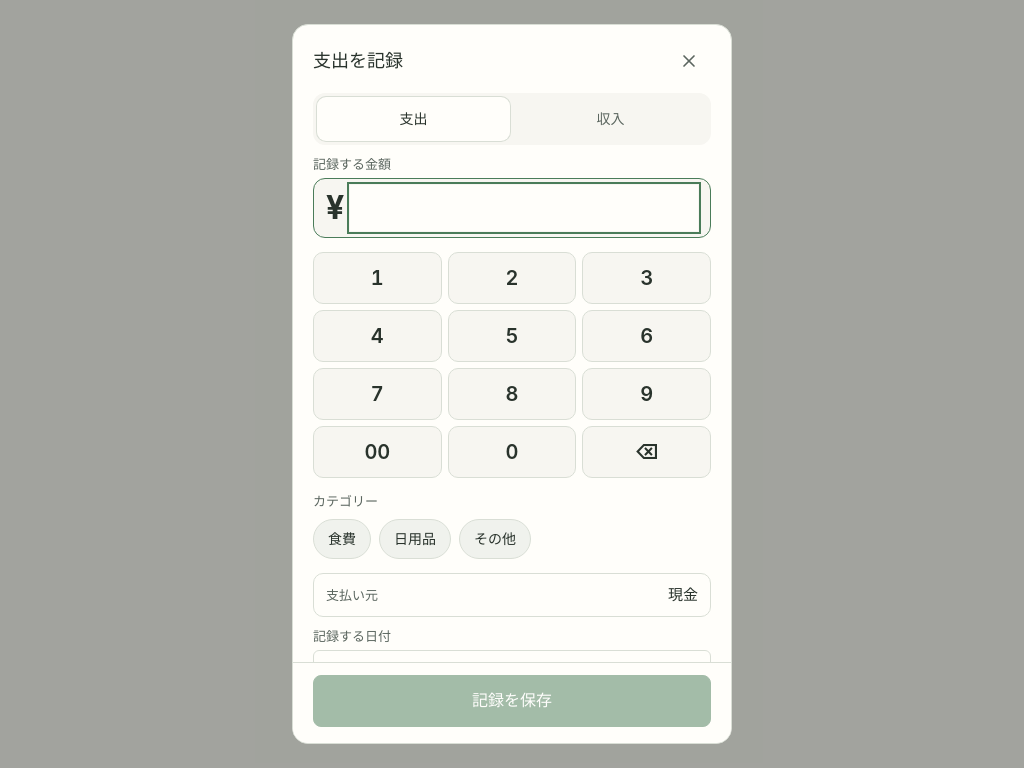
Test: QuickAddSheet › keeps Save disabled for an empty amount, 0, and when no category is chosen
Step 1. Click the button "食費" → click(342, 539), box x1=313 y1=519 x2=371 y2=559
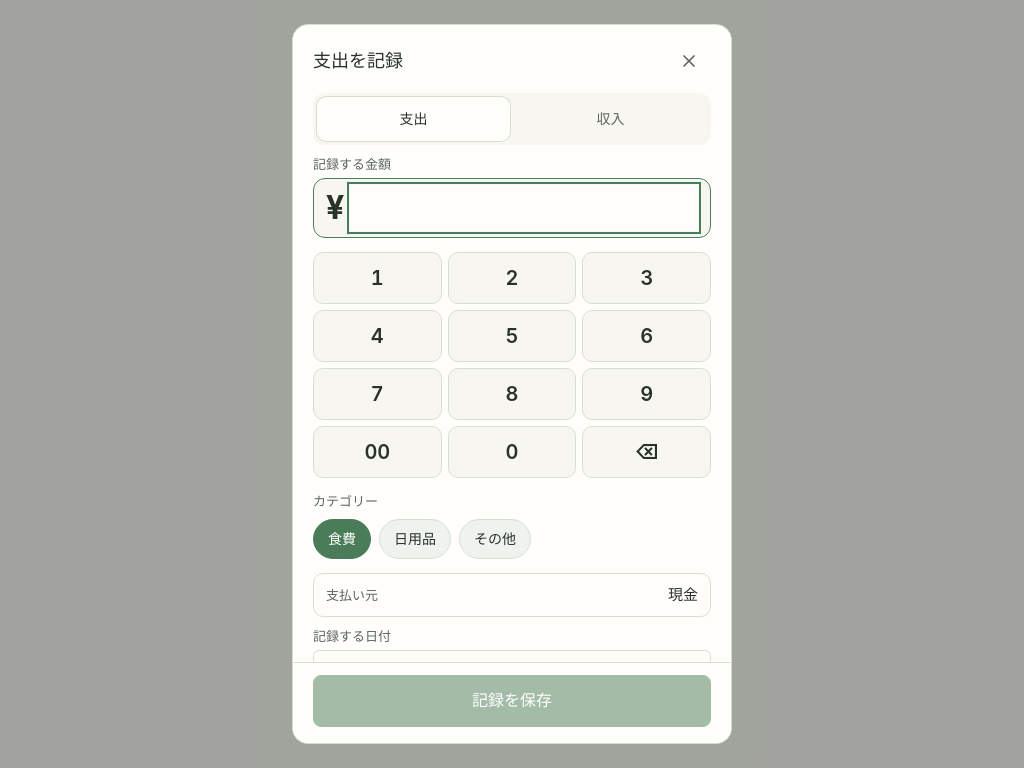
Expected: the button "記録を保存" is disabled, x1=313 y1=675 x2=711 y2=727
Step 2. Click the button "0" → click(512, 452), box x1=448 y1=426 x2=576 y2=478
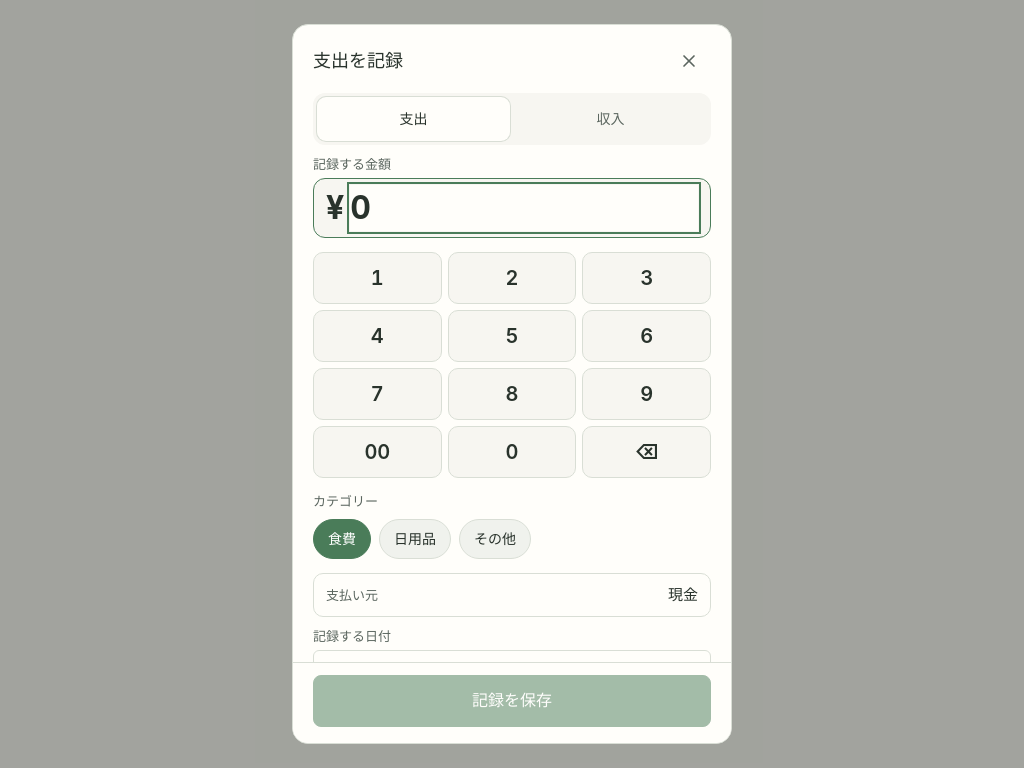
Expected: the button "記録を保存" is disabled, x1=313 y1=675 x2=711 y2=727
Step 3. Replace the text in the field labelled "記録する金額" with "500" → (524, 208), box x1=350 y1=185 x2=698 y2=231
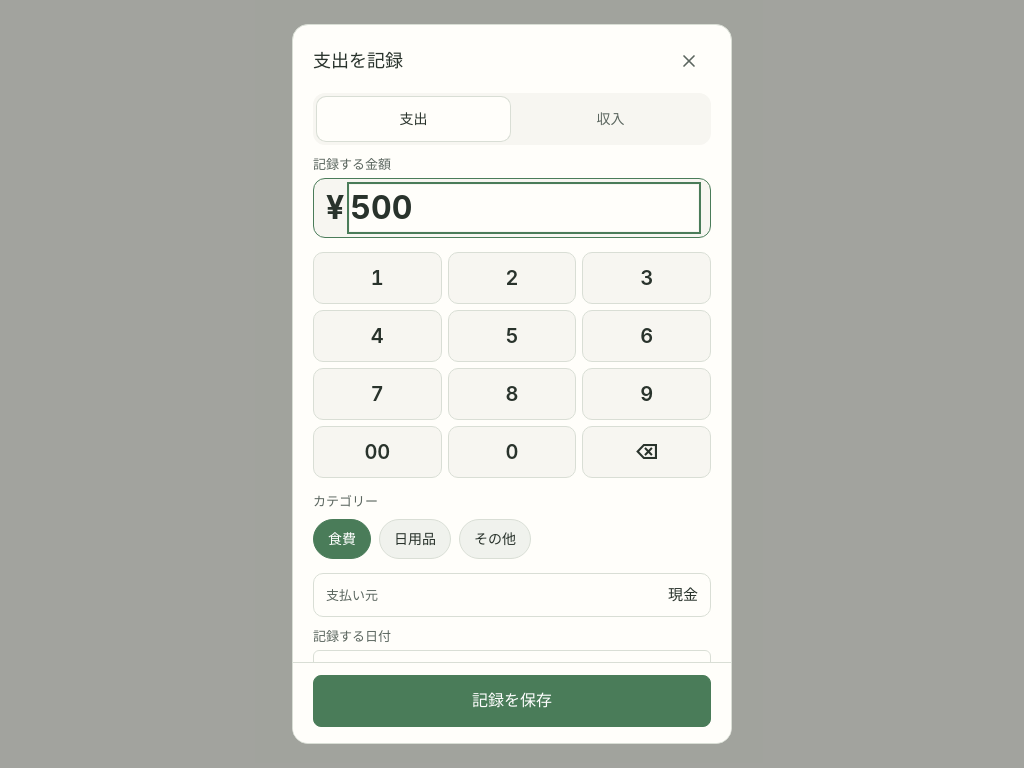
Expected: the button "記録を保存" is enabled, x1=313 y1=675 x2=711 y2=727
Step 4. Click the button "食費" → click(342, 539), box x1=313 y1=519 x2=371 y2=559
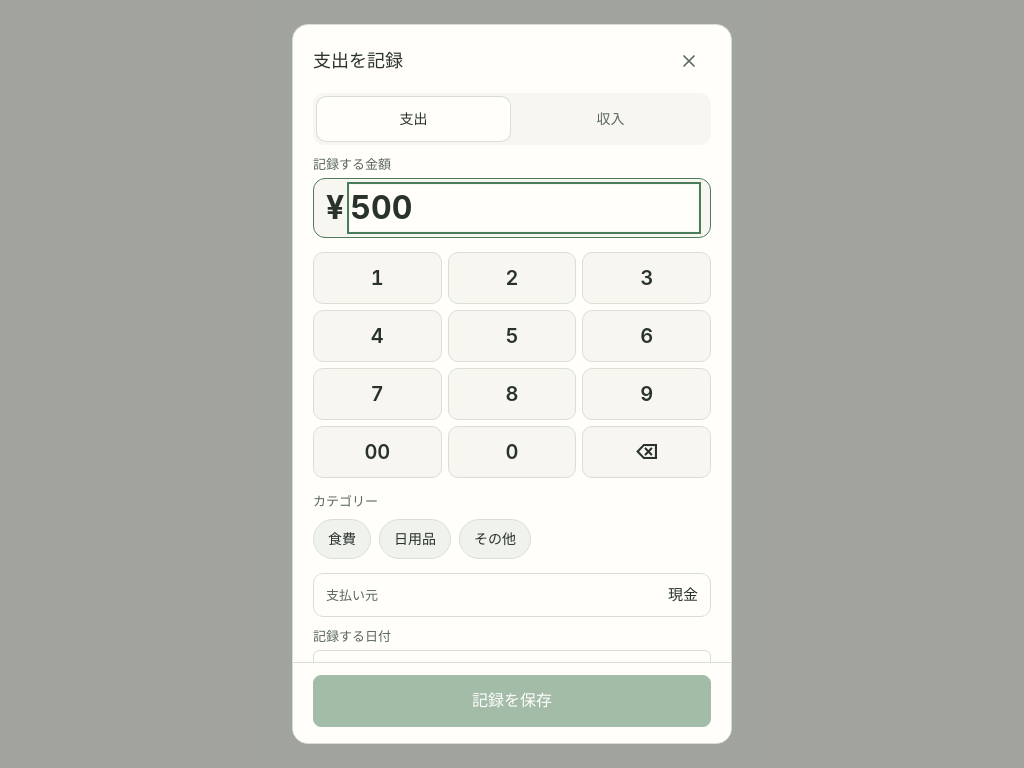
Expected: the button "記録を保存" is disabled, x1=313 y1=675 x2=711 y2=727
